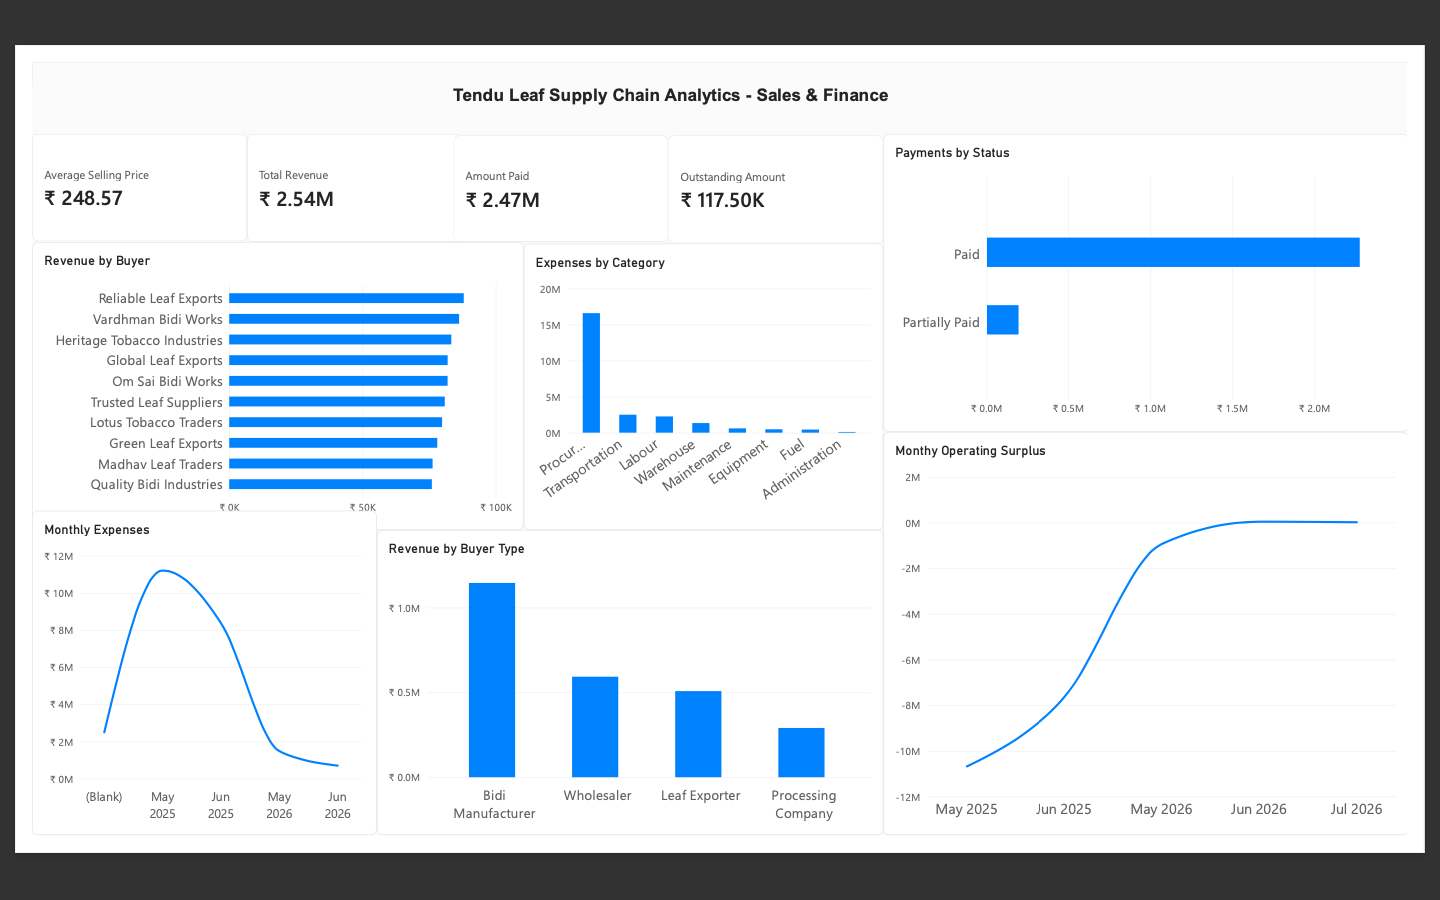

This screenshot's page, from the dashboard's own definition file:
{"tool":"powerbi","page":{"name":"Sales & Finance","canvas":[1920,1080],"ordinal":4},"visuals":[{"type":"textbox","box":[588.4,30.2,748.8,69.8],"z":0},{"type":"cardVisual","fields":{"Data":["Sum(Sales.Total_Sale_Value)"]},"box":[300,100,300,151.2],"z":1000},{"type":"cardVisual","fields":{"Data":["Sum(Payments.Amount_Paid_INR)"]},"box":[588.4,102.3,300,148.8],"z":2000},{"type":"cardVisual","fields":{"Data":["Sum(Payments.Outstanding_Amount_INR)"]},"box":[888.4,102.3,300,151.2],"z":3000},{"type":"cardVisual","fields":{"Data":["Avg(Sales.Selling_Price_Per_Kg)"]},"box":[0,100,300,150],"z":4000},{"type":"clusteredBarChart","title":"Revenue by Buyer","fields":{"Category":["Buyers.Buyer_Name"],"Y":["Sum(Sales.Total_Sale_Value)"]},"box":[0,251.2,686,402.3],"z":5000},{"type":"clusteredColumnChart","title":"Revenue by Buyer Type","fields":{"Category":["Buyers.Buyer_Type"],"Y":["Sum(Sales.Total_Sale_Value)"]},"box":[481.4,653.5,707,425.6],"z":6000},{"type":"clusteredBarChart","title":"Payments by Status","fields":{"Category":["Payments.Payment_Status"],"Y":["Sum(Payments.Amount_Paid_INR)"]},"box":[1188.4,100,732.6,416.3],"z":7000},{"type":"clusteredColumnChart","title":"Expenses by Category","fields":{"Category":["Expenses.Expense_Category"],"Y":["Sum(Expenses.Amount_INR)"]},"box":[686,253.5,502.3,400],"z":8000},{"type":"lineChart","title":"Monthly Expenses","fields":{"Category":["DateTable.Month Year Label"],"Y":["Expenses.Total Expenses"]},"box":[0,625.6,481.4,453.5],"z":9000},{"type":"lineChart","title":"Monthy Operating Surplus","fields":{"Category":["DateTable.Month Year Label"],"Y":["Expenses.Operating Surplus"]},"box":[1188.4,516.3,732.6,562.8],"z":10000}]}

Visuals, with their boxes on the page's 1920x1080 design canvas (x1, y1, x2, y2). These are canvas units, not pixel positions in the 1440x900 screenshot, which may show the page scaled, cropped or inside an application window:
textbox: [left=588, top=30, right=1337, bottom=100]
cardVisual - Sum(Sales.Total_Sale_Value): [left=300, top=100, right=600, bottom=251]
cardVisual - Sum(Payments.Amount_Paid_INR): [left=588, top=102, right=888, bottom=251]
cardVisual - Sum(Payments.Outstanding_Amount_INR): [left=888, top=102, right=1188, bottom=254]
cardVisual - Avg(Sales.Selling_Price_Per_Kg): [left=0, top=100, right=300, bottom=250]
"Revenue by Buyer" clusteredBarChart: [left=0, top=251, right=686, bottom=654]
"Revenue by Buyer Type" clusteredColumnChart: [left=481, top=654, right=1188, bottom=1079]
"Payments by Status" clusteredBarChart: [left=1188, top=100, right=1921, bottom=516]
"Expenses by Category" clusteredColumnChart: [left=686, top=254, right=1188, bottom=654]
"Monthly Expenses" lineChart: [left=0, top=626, right=481, bottom=1079]
"Monthy Operating Surplus" lineChart: [left=1188, top=516, right=1921, bottom=1079]
